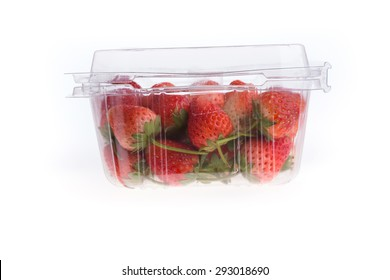PlasticBox: (61, 39, 335, 194)
